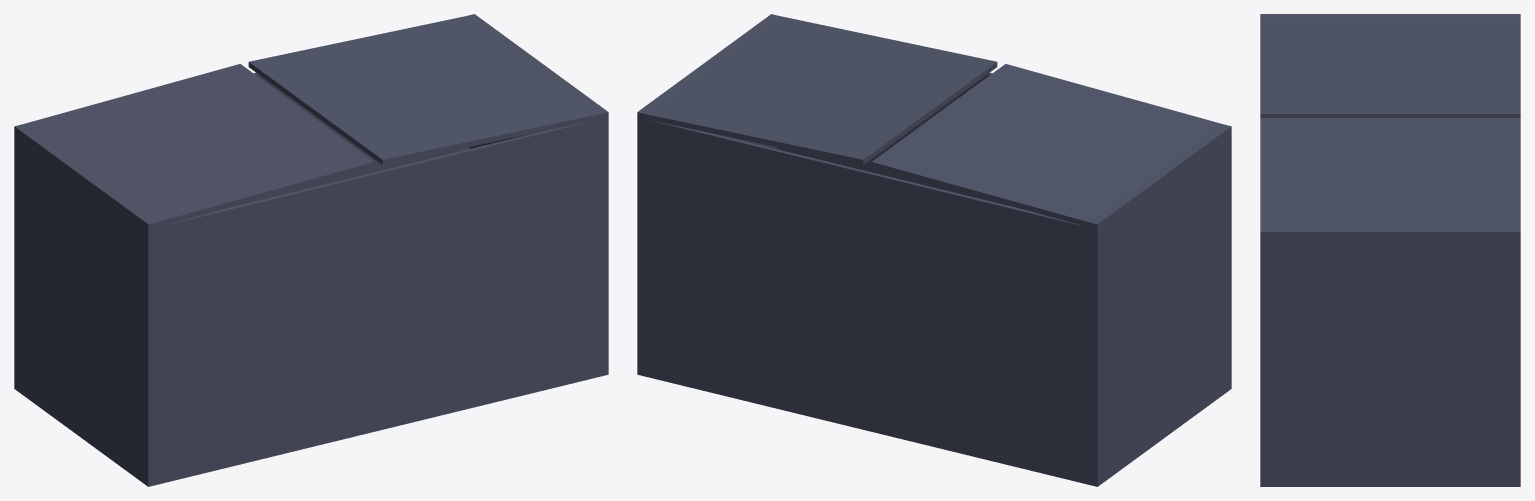
3 renders of one model, left to right at view 1: azimuth 30°, elevation 25°; view 2: azimuth 150°, elevation 25°; view 3: azimuth 270°, elevation 25°, orthographic. The views are drawn at different scales.
Parts seen in each view (by area): view 1: Куб; view 2: Куб; view 3: Куб.
Boxes of the visible parts, x1=… form: Куб: x1=14, y1=14, x2=608, y2=486; Куб: x1=637, y1=14, x2=1231, y2=486; Куб: x1=1260, y1=14, x2=1520, y2=486.
Bounding box in the file's own units: 270 × 151 × 136.
